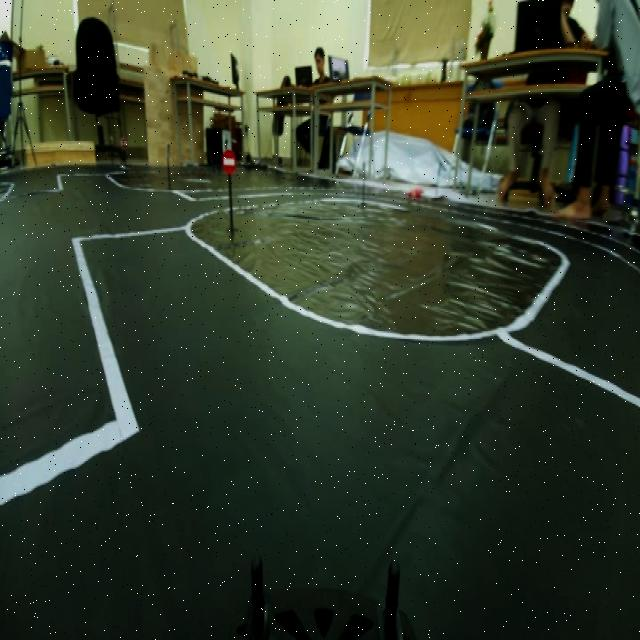no_entry: (218, 145, 239, 180)
